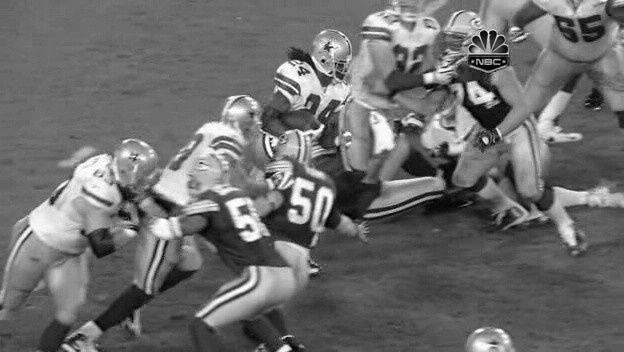person: (318, 34, 353, 78), (317, 34, 352, 78), (319, 34, 354, 78), (318, 33, 353, 77), (318, 35, 353, 79)
target_negative: (158, 160, 543, 197), (549, 206, 562, 330), (133, 195, 175, 223), (534, 238, 555, 263), (255, 348, 423, 351), (308, 256, 311, 313)
